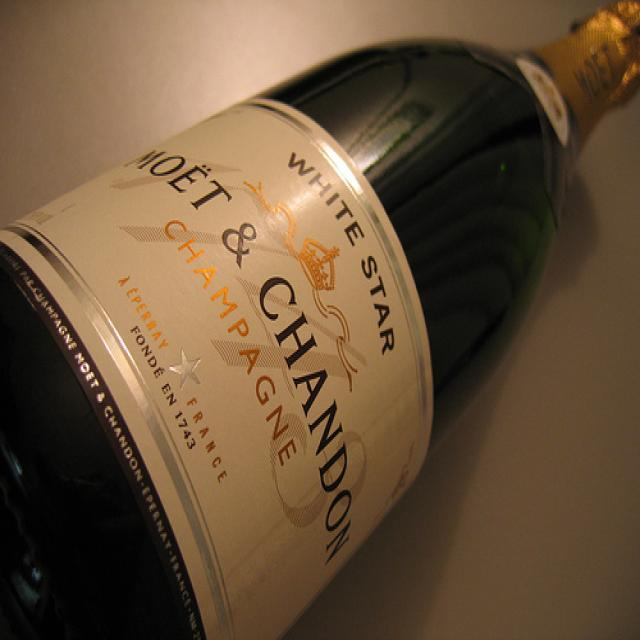bottle: (1, 1, 639, 639)
